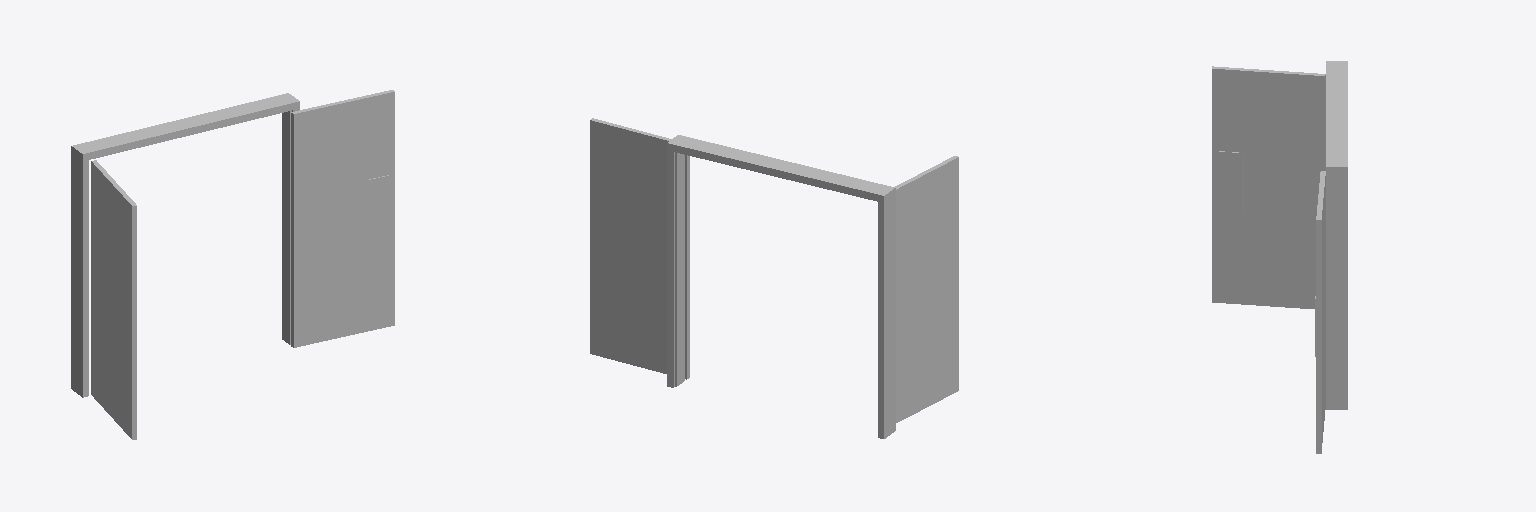
File: HighRollerDoors.obj
3 renders of one model, left to right at view 1: azimuth 30°, elevation 25°; view 2: azimuth 150°, elevation 25°; view 3: azimuth 270°, elevation 25°, orthographic.
Visible parts, largest first — view 1: Cube.004; view 2: Cube.004; view 3: Cube.004.
Boxes of the visible parts, x1,y1,x2,y2 form: Cube.004: [71, 90, 394, 439]; Cube.004: [590, 118, 958, 438]; Cube.004: [1212, 61, 1347, 453].
Size of the model in its own units: 3.04 by 2.25 by 1.15.